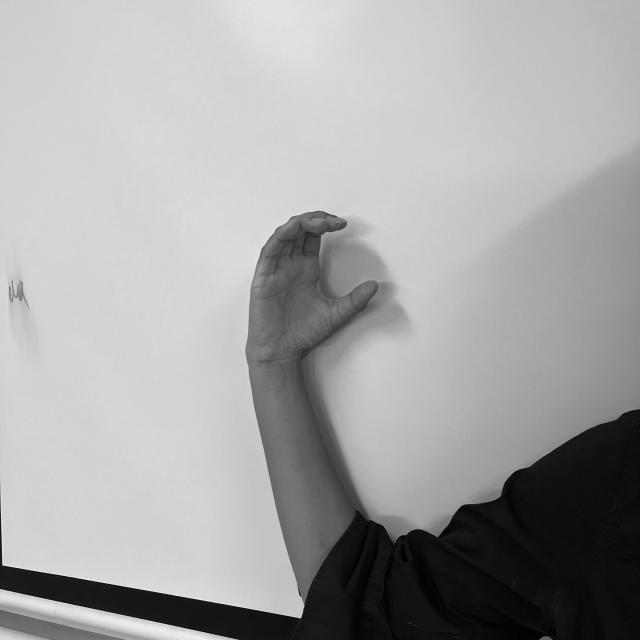Letra C: (240, 208, 384, 366)
